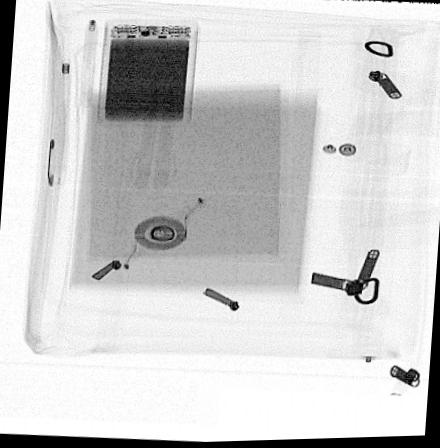Powerbank: (96, 19, 196, 127)
